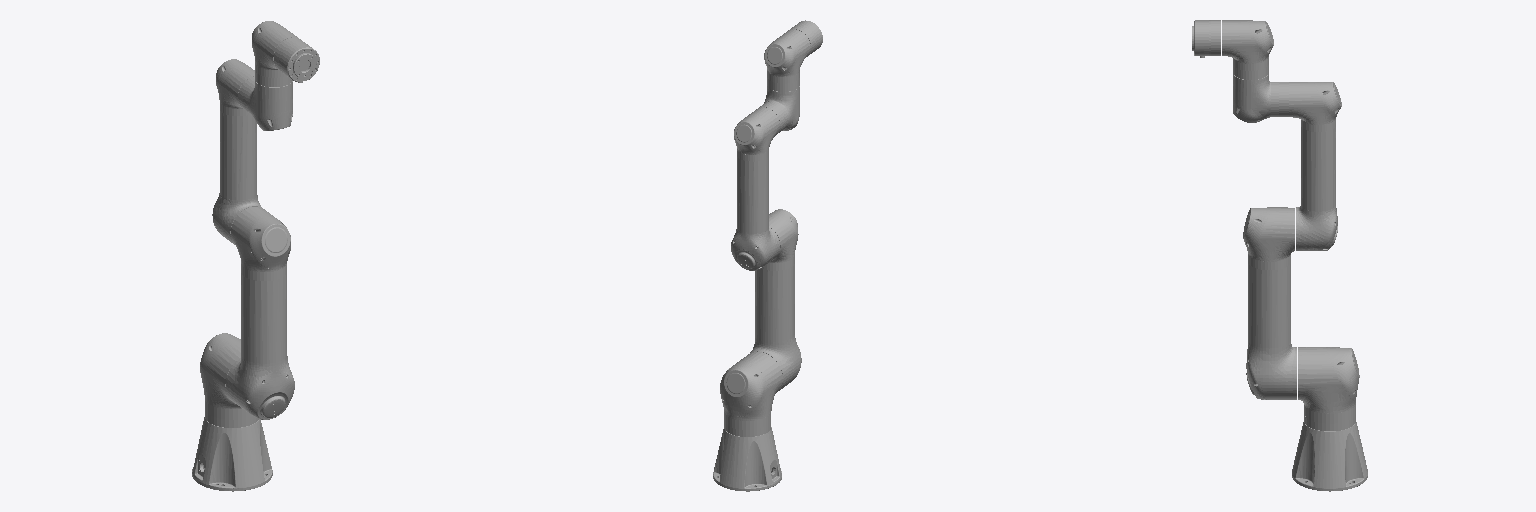
robot.urdf — chin:
<?xml version="1.0" encoding="UTF-8"?>
<robot name="chin">

        <link
            name="link0">
            <inertial>
                <origin
                    xyz="0 0 0"
                    rpy="0 0 0" />
                <mass
                    value="4.0887" />
                <inertia
                    ixx="0.32376"
                    iyy="0.50646"
                    izz="0.69158"
                    iyz="-0.040073"
                    ixz="-0.097588"
                    ixy="-0.10943"
                     />
            </inertial>
            <visual>
                <origin
                    xyz="0 0 0"
                    rpy="0 0 0" />
                <geometry>
                    <mesh
                        filename="package://chin_description/meshes/link0.STL" />
                </geometry>
                <material
                    name="">
                    <color
                        rgba="0.7 0.7 0.7 1" />
                </material>
            </visual>
            <collision>
                <origin
                    xyz="0 0 0"
                    rpy="0 0 0" />
                <geometry>
                    <mesh
                        filename="package://chin_description/meshes/link0.STL" />
                </geometry>
            </collision>
        </link>

        <link
            name="link1">
            <inertial>
                <origin
                    xyz="0 0.043 0.005"
                    rpy="3.14159265358979323846 0 0" />
                <mass
                    value="5.675" />
                <inertia
                ixx="1.1632"
                iyy="1.1632"
                izz="0.0125"
                iyz="0"
                ixz="-0.001"
                ixy="0" />
            </inertial>
            <visual>
                <origin
                    xyz="0 0 0"
                    rpy="0 0 0" />
                <geometry>
                    <mesh
                        filename="package://chin_description/meshes/link1.STL" />
                </geometry>
                <material
                    name="">
                    <color
                        rgba="0.7 0.7 0.7 1" />
                </material>
            </visual>
            <collision>
                <origin
                    xyz="0 0 0"
                    rpy="0 0 0" />
                <geometry>
                    <mesh
                        filename="package://chin_description/meshes/link1.STL" />
                </geometry>
            </collision>
        </link>
        <joint
            name="joint1"
            type="revolute">
            <origin
                xyz="0 0 0.283"
                rpy="3.14159265358979323846 0 0" />
            <parent
                link="link0" />
            <child
                link="link1" />
            <axis
                xyz="0 0 1" />
            <limit
                lower="-3.05"
                upper="3.05"
                effort="210"
                velocity="10" />

        </joint>
        <link
            name="link2">
            <inertial>
                <origin
                    xyz="-0.298 0 -0.126"
                    rpy="3.14159265358979323846 0 0" />
                <mass
                    value="5.466" />
                <inertia
                ixx="0.014"
                iyy="0.124"
                izz="0.122"
                iyz="0"
                ixz="0"
                ixy="-0.009" />
            </inertial>
            <visual>
                <origin
                    xyz="0 0 0"
                    rpy="0 0 0" />
                <geometry>
                    <mesh
                        filename="package://chin_description/meshes/link2.STL" />
                </geometry>
                <material
                    name="">
                    <color
                        rgba="0.7 0.7 0.7 1" />
                </material>
            </visual>
            <collision>
                <origin
                    xyz="0 0 0"
                    rpy="0 0 0" />
                <geometry>
                    <mesh
                        filename="package://chin_description/meshes/link2.STL" />
                </geometry>
            </collision>
        </link>
        <joint
            name="joint2"
            type="revolute">
            <origin
                xyz="0 0 0"
                rpy="1.57079632679489661923 -1.57079632679489661923 0" />
            <parent
                link="link1" />
            <child
                link="link2" />
            <axis
                xyz="0 0 1" />
            <limit
                lower="-3.05"
                upper="3.05"
                effort="210"
                velocity="10" />

        </joint>
        <link
            name="link3">
            <inertial>
                <origin
                xyz="-0.274 0 -0.061"
                rpy="0 0 0" />
            <mass
                value="4.294" />
            <inertia
            ixx="0.01"
            iyy="0.081"
            izz="0.076"
            iyz="0"
            ixz="0"
            ixy="-0.01"  />
            </inertial>
            <visual>
                <origin
                    xyz="0 0 0"
                    rpy="0 0 0" />
                <geometry>
                    <mesh
                        filename="package://chin_description/meshes/link3.STL" />
                </geometry>
                <material
                    name="">
                    <color
                        rgba="0.7 0.7 0.7 1" />
                </material>
            </visual>
            <collision>
                <origin
                    xyz="0 0 0"
                    rpy="0 0 0" />
                <geometry>
                    <mesh
                        filename="package://chin_description/meshes/link3.STL" />
                </geometry>
            </collision>
        </link>
        <joint
            name="joint3"
            type="revolute">
            <origin
                xyz="-0.4 0 0"
                rpy="3.14159265358979323846 0 0" />
            <parent
                link="link2" />
            <child
                link="link3" />
            <axis
                xyz="0 0 1" />
            <limit
                lower="-3.05"
                upper="3.05"
                effort="110"
                velocity="10" />
        </joint>
        <link
            name="link4">
            <inertial>
                <origin
                    xyz="0 -0.055 0.001"
                    rpy="0 0 0" />
                <mass
                    value="2.732" />
                <inertia
                ixx="0.005"
                iyy="0.003"
                izz="0.005"
                iyz="0"
                ixz="0"
                ixy="0" />
            </inertial>
            <visual>
                <origin
                    xyz="0 0 0"
                    rpy="0 0 0" />
                <geometry>
                    <mesh
                        filename="package://chin_description/meshes/link4.STL" />
                </geometry>
                <material
                    name="">
                    <color
                        rgba="0.7 0.7 0.7 1" />
                </material>
            </visual>
            <collision>
                <origin
                    xyz="0 0 0"
                    rpy="0 0 0" />
                <geometry>
                    <mesh
                        filename="package://chin_description/meshes/link4.STL" />
                </geometry>
            </collision>
        </link>
        <joint
            name="joint4"
            type="revolute">
            <origin
                xyz="-0.36 0 0.19875"
                rpy="3.14159265358979323846 0 1.57079632679489661923" />
            <parent
                link="link3" />
            <child
                link="link4" />
            <axis
                xyz="0 0 1" />
            <limit
                lower="-3.05"
                upper="3.05"
                effort="50"
                velocity="10" />

        </joint>
        <link
            name="link5">
            <inertial>
                <origin
                    xyz="0 0.055 0.001"
                    rpy="3.14159265358979323846 0 0" />
                <mass
                    value="2.732" />
                <inertia
                ixx="0.005"
                iyy="0.003"
                izz="0.005"
                iyz="0"
                ixz="0"
                ixy="0" />
            </inertial>
            <visual>
                <origin
                    xyz="0 0 0"
                    rpy="0 0 0" />
                <geometry>
                    <mesh
                        filename="package://chin_description/meshes/link5.STL" />
                </geometry>
                <material
                    name="">
                    <color
                        rgba="0.7 0.7 0.7 1" />
                </material>
            </visual>
            <collision>
                <origin
                    xyz="0 0 0"
                    rpy="0 0 0" />
                <geometry>
                    <mesh
                        filename="package://chin_description/meshes/link5.STL" />
                </geometry>
            </collision>
        </link>
        <joint
            name="joint5"
            type="revolute">
            <origin
                xyz="0 -0.16975 0"
                rpy="-1.57079632679489661923 0 0" />
            <parent
                link="link4" />
            <child
                link="link5" />
            <axis
                xyz="0 0 1" />
            <limit
                lower="-3.05"
                upper="3.05"
                effort="50"
                velocity="10" />

        </joint>
        <link
            name="link6">
            <inertial>
                <origin
                    xyz="0 0 0.017"
                    rpy="0 0 0" />
                <mass
                    value="0.28" />
                <inertia
                ixx="0.01"
                iyy="0.01"
                izz="0.01"
                iyz="0"
                ixz="0"
                ixy="0" />
            </inertial>
            <visual>
                <origin
                    xyz="0 0 0"
                    rpy="0 0 0" />
                <geometry>
                    <mesh
                        filename="package://chin_description/meshes/link6.STL" />
                </geometry>
                <material
                    name="">
                    <color
                        rgba="0.7 0.7 0.7 1" />
                </material>
            </visual>
            <collision>
                <origin
                    xyz="0 0 0"
                    rpy="0 0 0" />
                <geometry>
                    <mesh
                        filename="package://chin_description/meshes/link6.STL" />
                </geometry>
            </collision>
        </link>
        <joint
            name="joint6"
            type="revolute">
            <origin
                xyz="0 0.14875 0"
                rpy="1.57079632679489661923 0 0" />
            <parent
                link="link5" />
            <child
                link="link6" />
            <axis
                xyz="0 0 1" />
            <limit
                lower="-3.05"
                upper="3.05"
                effort="50"
                velocity="10" />

        </joint>

</robot>

--- Render facts (derived) ---
3 views of the same robot in one strip: view 1: azimuth 30°, elevation 25°; view 2: azimuth 150°, elevation 25°; view 3: azimuth 270°, elevation 25° (orthographic).
Model chin with 7 links and 6 joints (6 revolute), rooted at link0, posed all joints at 0.
Links seen in each view (by area): view 1: link2, link3, link0, link1, link4, link5, link6; view 2: link3, link2, link1, link0, link5, link4; view 3: link2, link3, link1, link0, link5, link4, link6.
Link boxes in pixels (x1,y1,x2,y2): link2: (226,207,294,419); link3: (212,59,261,244); link0: (192,417,272,491); link1: (200,333,258,427); link4: (238,76,292,130); link5: (252,21,297,86); link6: (274,37,319,82); link3: (731,107,779,270); link2: (750,209,801,390); link1: (720,352,782,436); link0: (713,427,781,491); link5: (764,29,810,91); link4: (759,86,799,132); link2: (1243,207,1296,399); link3: (1289,82,1341,250); link1: (1298,347,1359,430); link0: (1292,422,1367,491); link5: (1222,20,1273,79); link4: (1233,74,1288,122); link6: (1192,20,1220,57).
Size in the robot's own frame: 0.192 by 0.4435 by 1.26 metres.
Meshes: 7 distinct files referenced, 7 mesh visuals loaded (7 binary STL).
